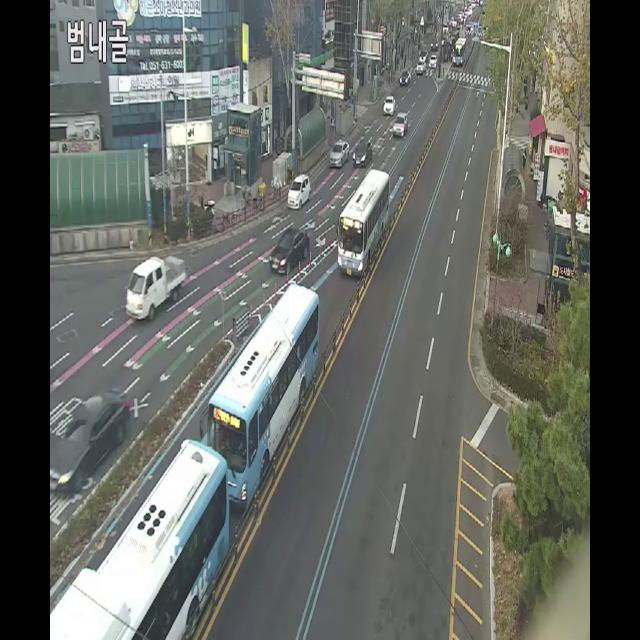car: (53, 433, 236, 640), (203, 269, 327, 531), (322, 154, 392, 292)
motorcycle: (39, 387, 135, 505), (267, 221, 312, 285), (325, 130, 354, 171), (285, 169, 309, 214), (352, 132, 378, 171), (392, 104, 412, 153), (395, 64, 412, 92), (455, 27, 462, 77), (383, 88, 392, 120), (420, 41, 428, 68), (414, 56, 422, 78), (430, 56, 439, 70)
truck: (114, 245, 208, 332)
